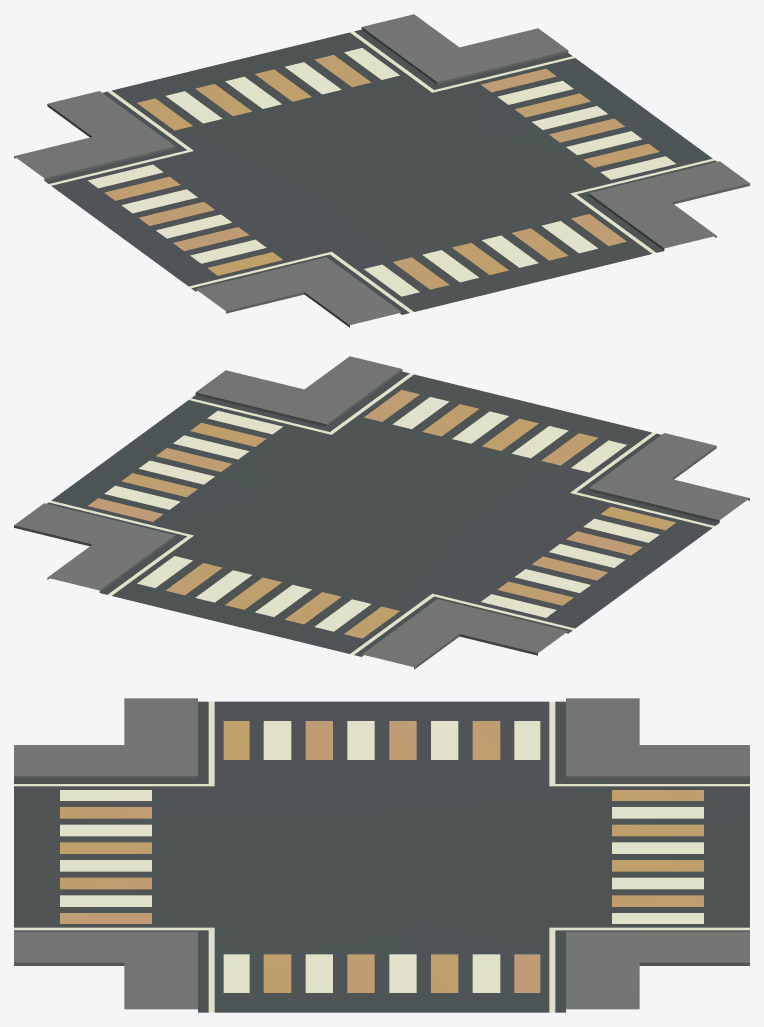
Rendered from city_road_crossroads_4.glb.
3 renders of one model, top to bottom at view 1: azimuth 30°, elevation 25°; view 2: azimuth 150°, elevation 25°; view 3: azimuth 270°, elevation 25°, orthographic. The views are drawn at different scales.
Visible parts, largest first — view 1: Road_Crossroads_1; view 2: Road_Crossroads_1; view 3: Road_Crossroads_1.
Part boxes in pixels (x1=…): Road_Crossroads_1: x1=14, y1=14, x2=749, y2=327; Road_Crossroads_1: x1=14, y1=356, x2=749, y2=669; Road_Crossroads_1: x1=14, y1=698, x2=749, y2=1012.
Size of the model in its own units: 8.57 by 0.0398 by 8.57.
1 material, 1 textured.
